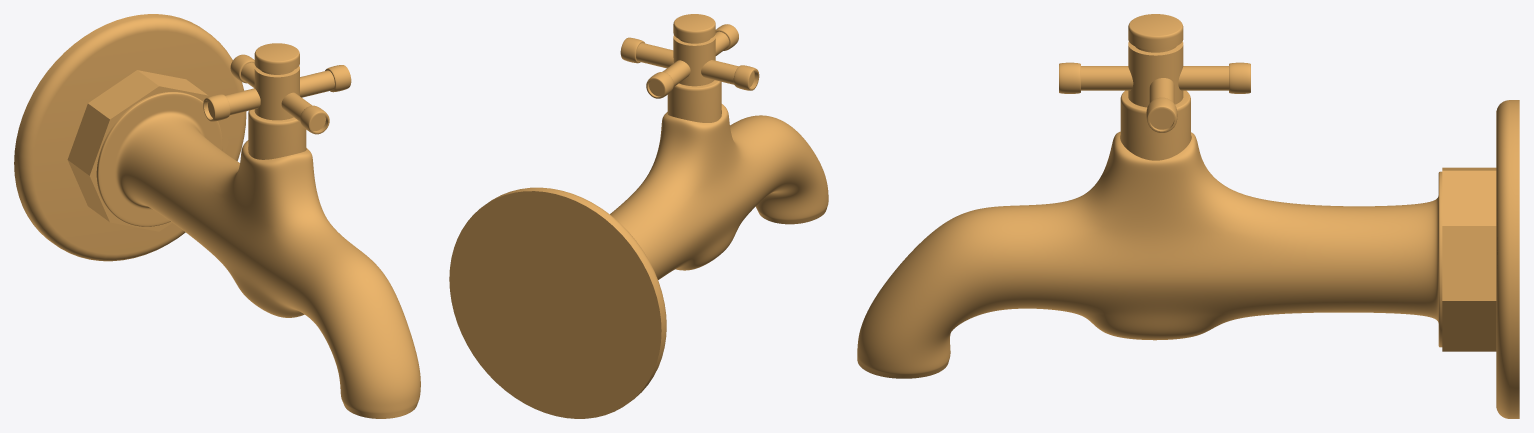
File: uploads_files_4185707_Water+tap.fbx
The picture shows the model from 3 angles, left to right: view 1: azimuth 30°, elevation 25°; view 2: azimuth 150°, elevation 25°; view 3: azimuth 270°, elevation 25°; orthographic projection. The views are drawn at different scales.
Parts seen in each view (by area): view 1: Cylinder.005, Cylinder.001, Cylinder.006, Cylinder.007, Cylinder.008, Cylinder.009; view 2: Cylinder.001, Cylinder.005, Cylinder.007, Cylinder.008, Cylinder.009; view 3: Cylinder.005, Cylinder.006, Cylinder.001, Cylinder.007, Cylinder.009, Cylinder.008.
Boxes of the visible parts, x1,y1,x2,y2 form: Cylinder.005: [96, 92, 420, 418]; Cylinder.001: [14, 14, 246, 261]; Cylinder.006: [67, 70, 228, 231]; Cylinder.007: [248, 43, 306, 159]; Cylinder.008: [203, 65, 351, 121]; Cylinder.009: [230, 54, 329, 134]; Cylinder.001: [449, 187, 666, 418]; Cylinder.005: [610, 104, 828, 279]; Cylinder.007: [667, 14, 721, 122]; Cylinder.008: [620, 37, 759, 90]; Cylinder.009: [646, 24, 738, 98]; Cylinder.005: [857, 131, 1442, 378]; Cylinder.006: [1442, 167, 1496, 351]; Cylinder.001: [1496, 100, 1519, 418]; Cylinder.007: [1120, 14, 1190, 160]; Cylinder.009: [1059, 62, 1250, 93]; Cylinder.008: [1146, 78, 1177, 132].
Bounding box in the file's own units: 37.35 × 48.99 × 77.5.
